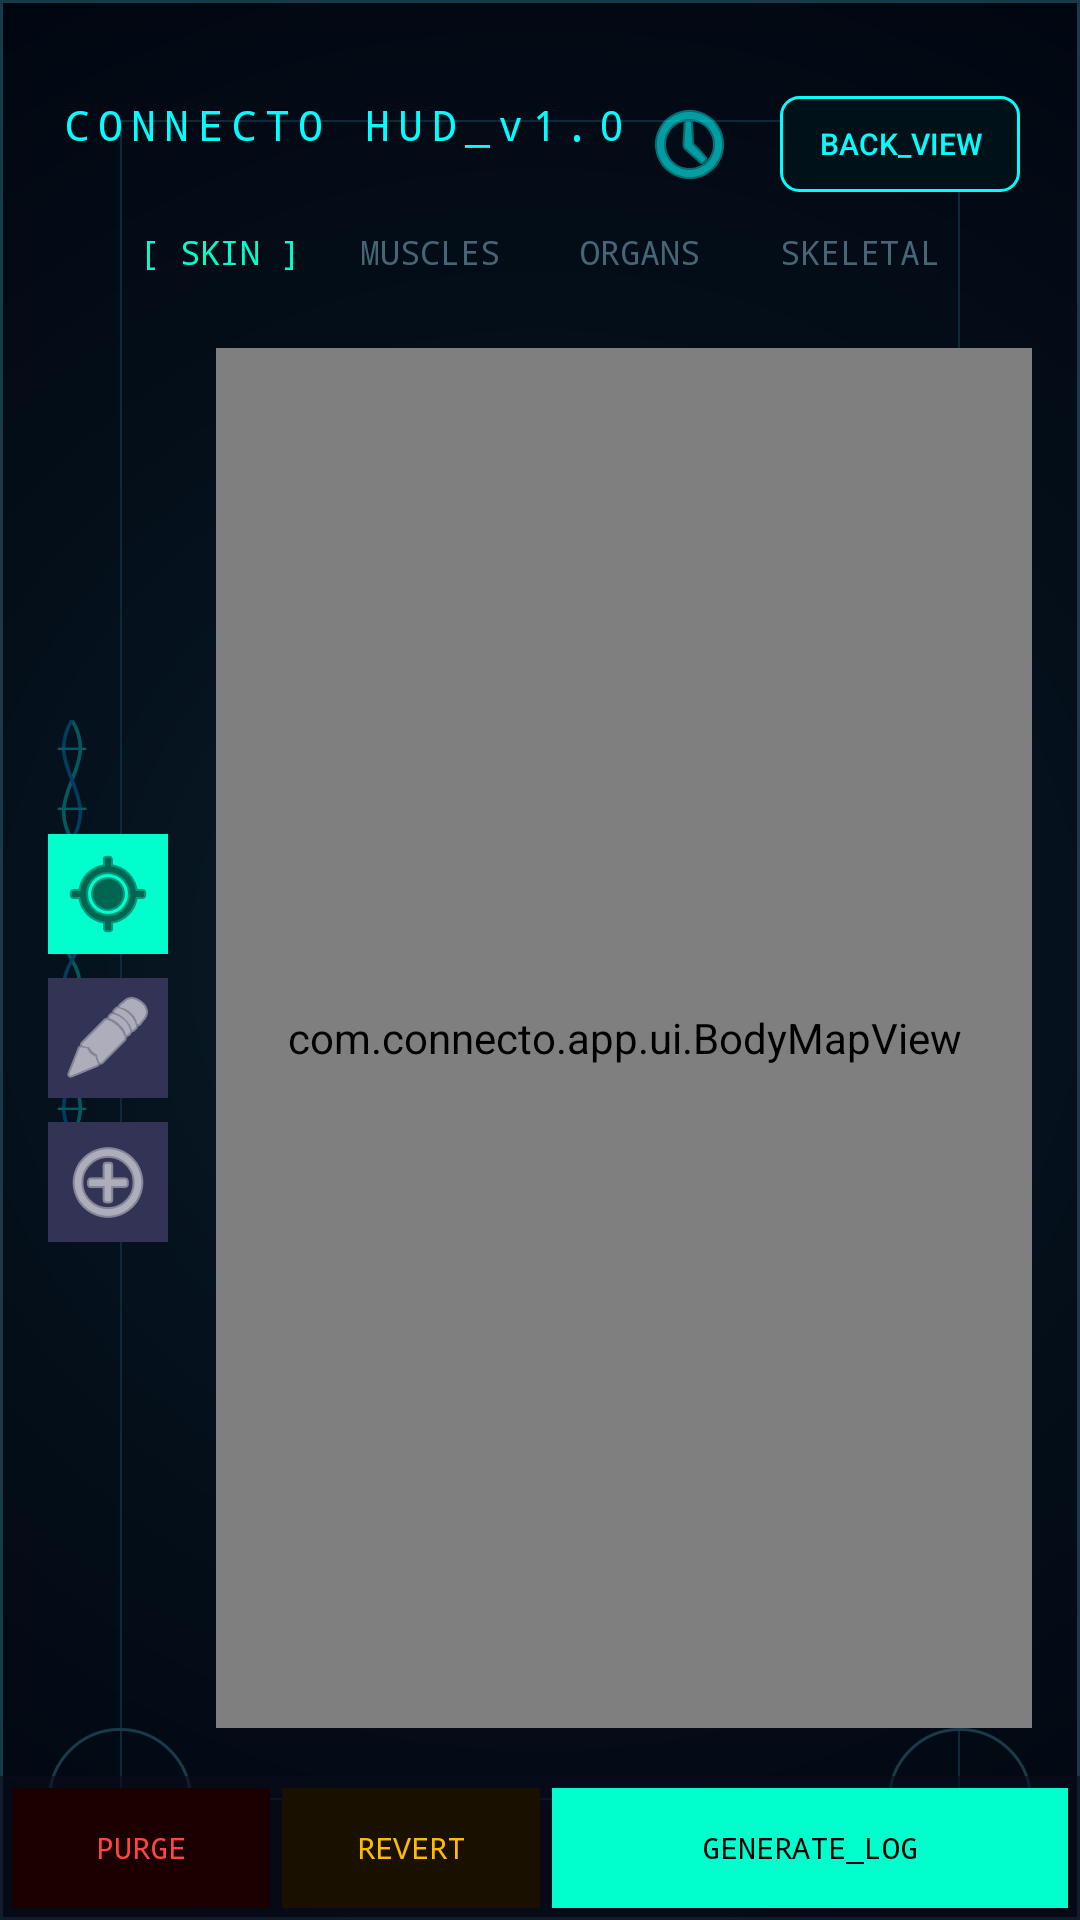

Icons on this 1080*1920 Android screen, each with its box as {"x1": x1, "y1": y1, "x2": x2, "y2": y2}:
recent history: {"x1": 636, "y1": 110, "x2": 744, "y2": 179}
